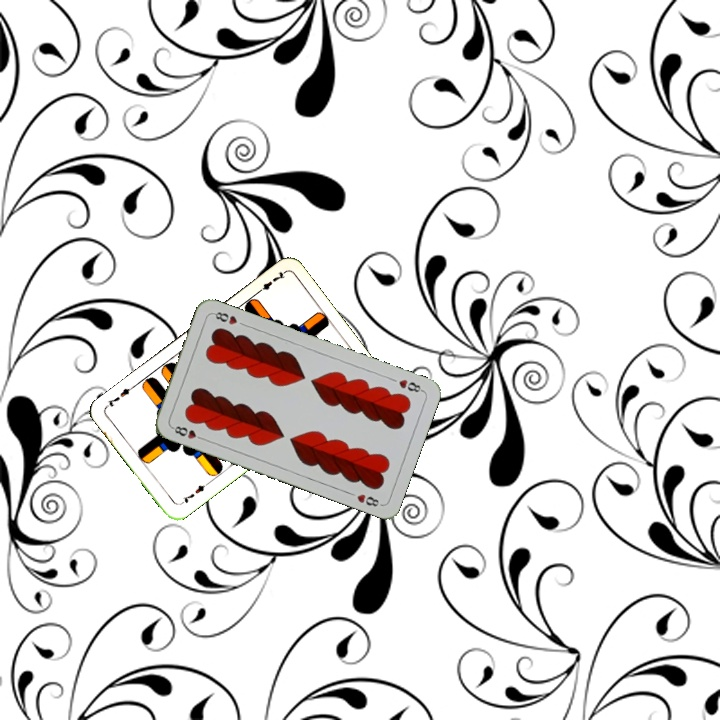E7: (253, 267, 288, 297), (176, 478, 211, 507)
H8: (168, 422, 207, 443), (395, 375, 426, 395)
